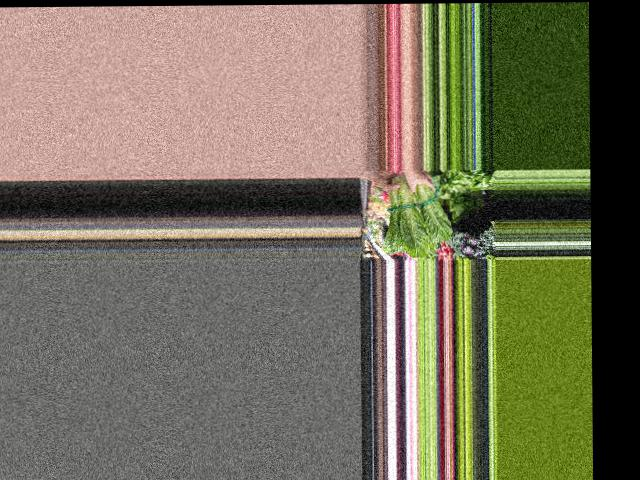lettuce: (385, 168, 453, 254)
